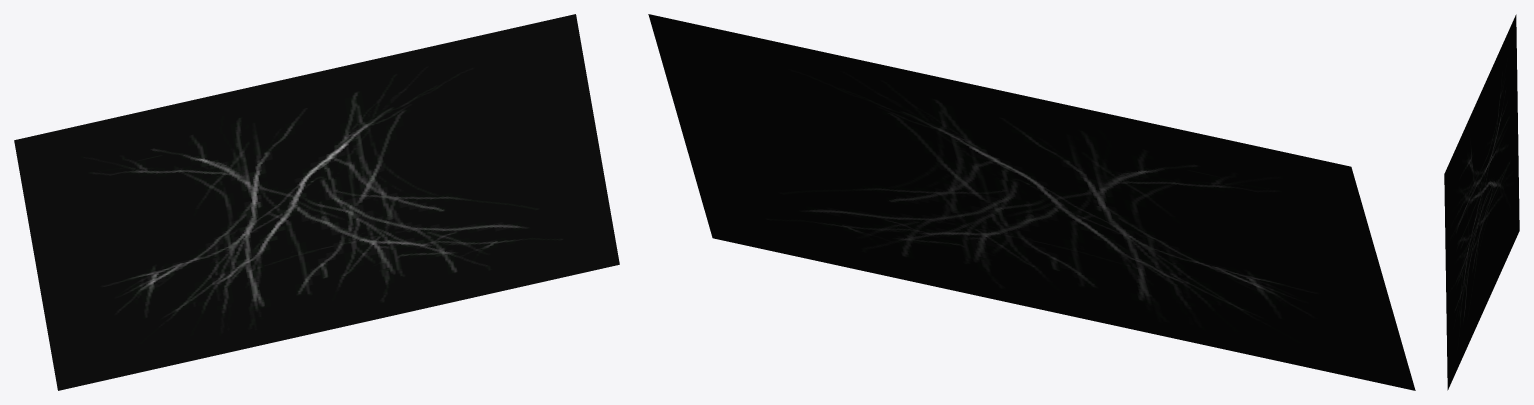
Rendered from MIRKWOOD_WEB_DECOR10.fbx.
3 views of the same model, side by side, from view 1: azimuth 30°, elevation 25°; view 2: azimuth 150°, elevation 25°; view 3: azimuth 270°, elevation 25° (orthographic). The views are drawn at different scales.
Parts seen in each view (by area): view 1: MIRKWOOD_WEB_DECOR10; view 2: MIRKWOOD_WEB_DECOR10; view 3: MIRKWOOD_WEB_DECOR10.
Part boxes in pixels (x1,y1,x2,y2): MIRKWOOD_WEB_DECOR10: [14, 14, 619, 390]; MIRKWOOD_WEB_DECOR10: [648, 14, 1415, 390]; MIRKWOOD_WEB_DECOR10: [1444, 14, 1519, 390].
Bounding box in the file's own units: 195491 × 74882 × 29841.
1 material, 1 textured.
